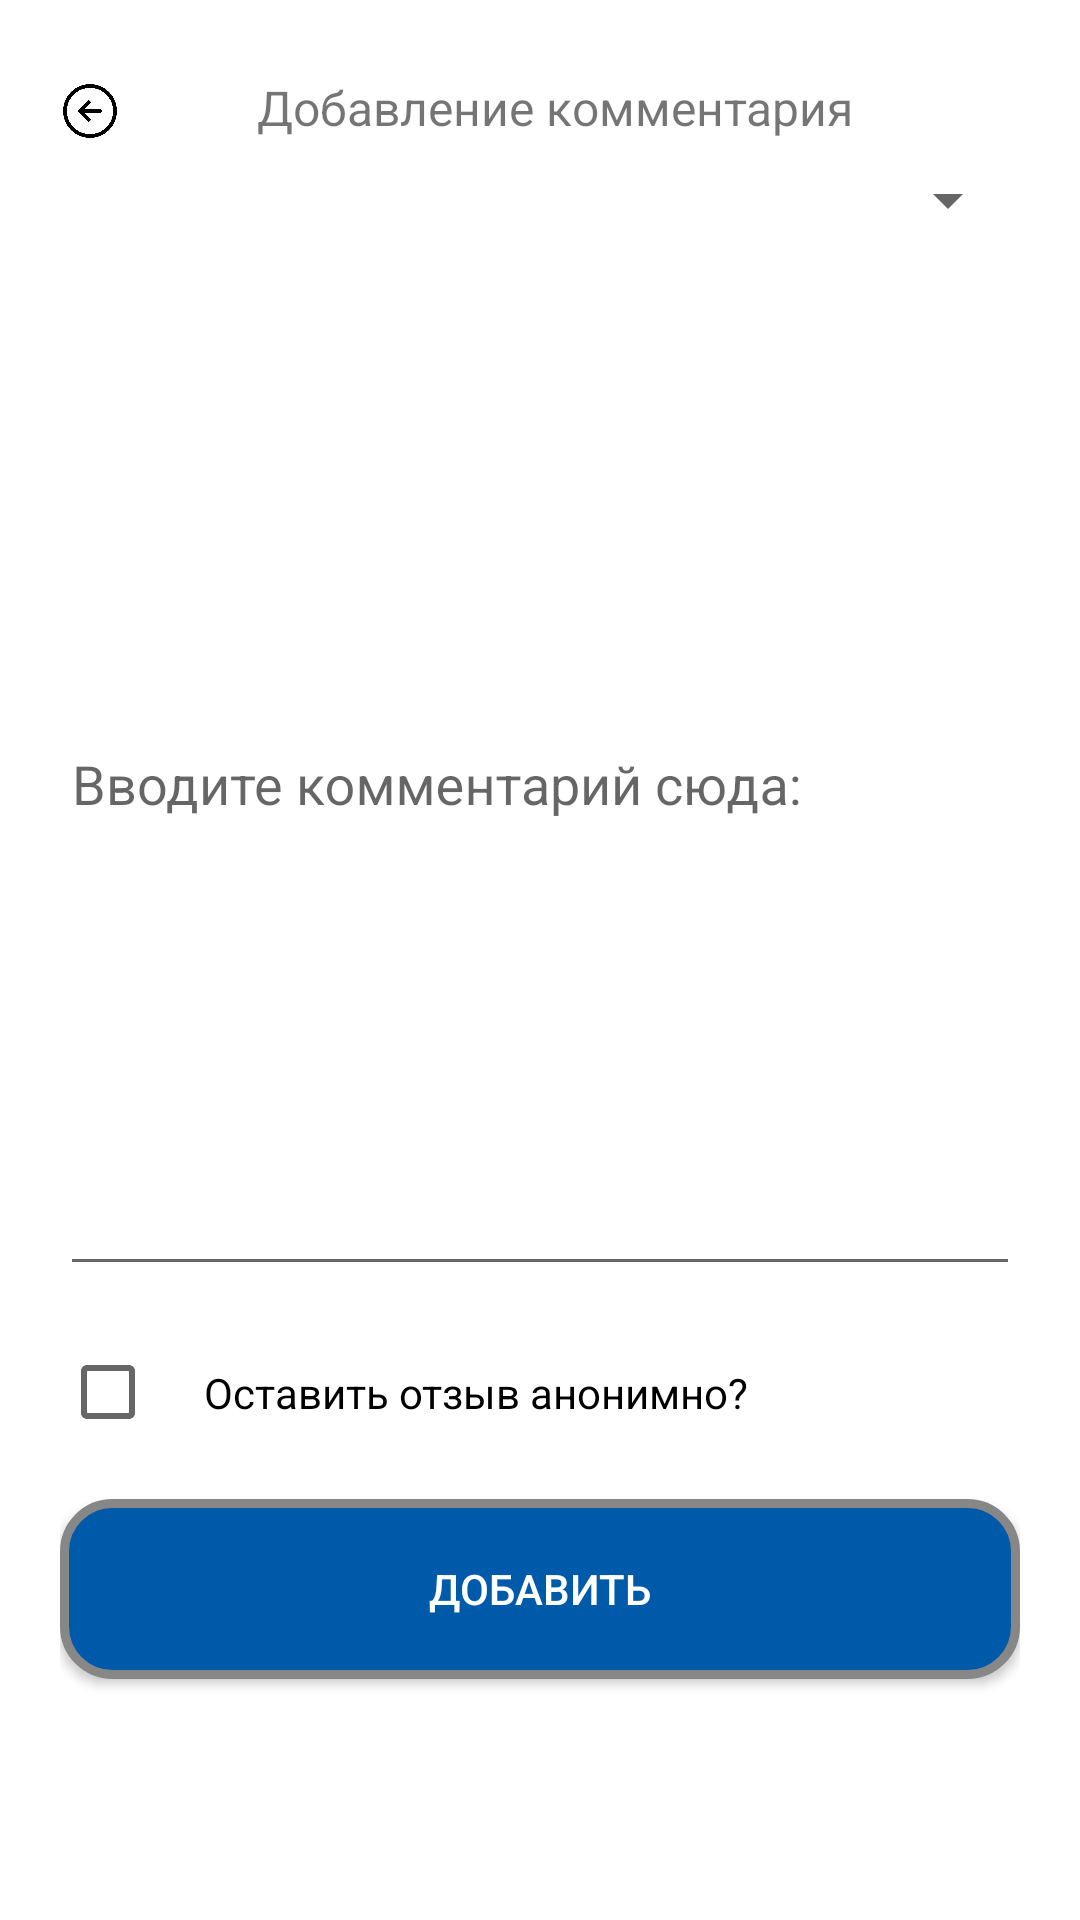

Named icons in this screenshot (1080px×1920px) and their centers, (x,y):
back: (90,111)
